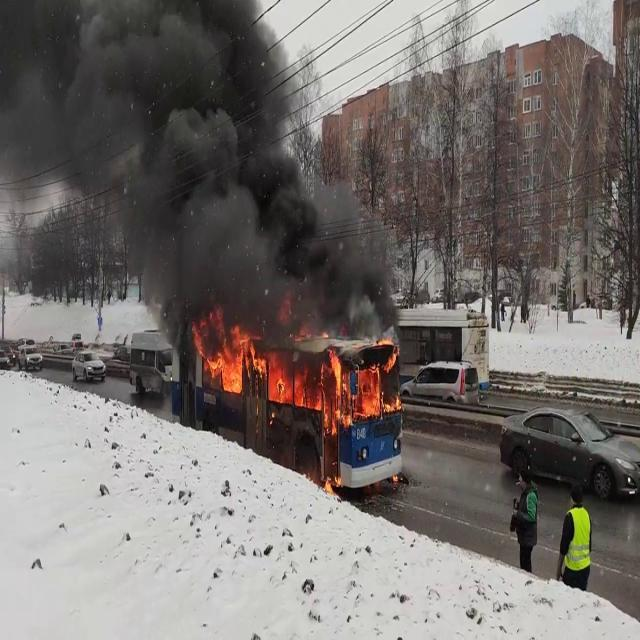Fire: (201, 330, 401, 432), (258, 331, 400, 433), (198, 326, 266, 394)
Smoke: (0, 0, 401, 332)
